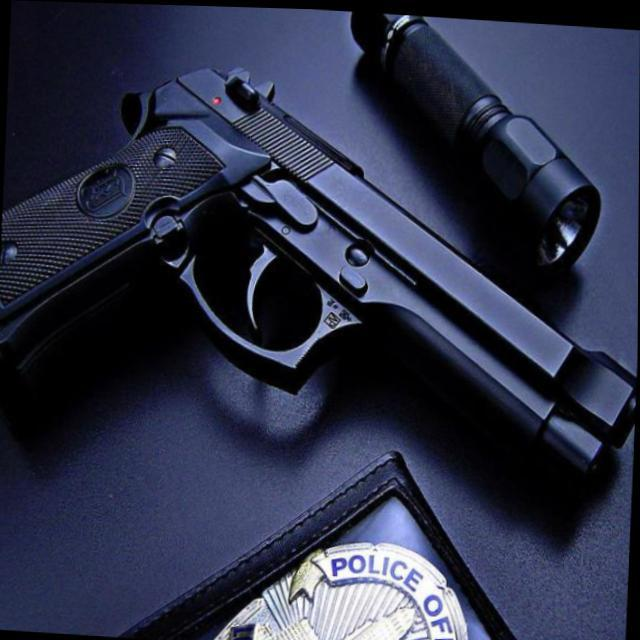weapon: (0, 49, 640, 490), (338, 9, 608, 274)
